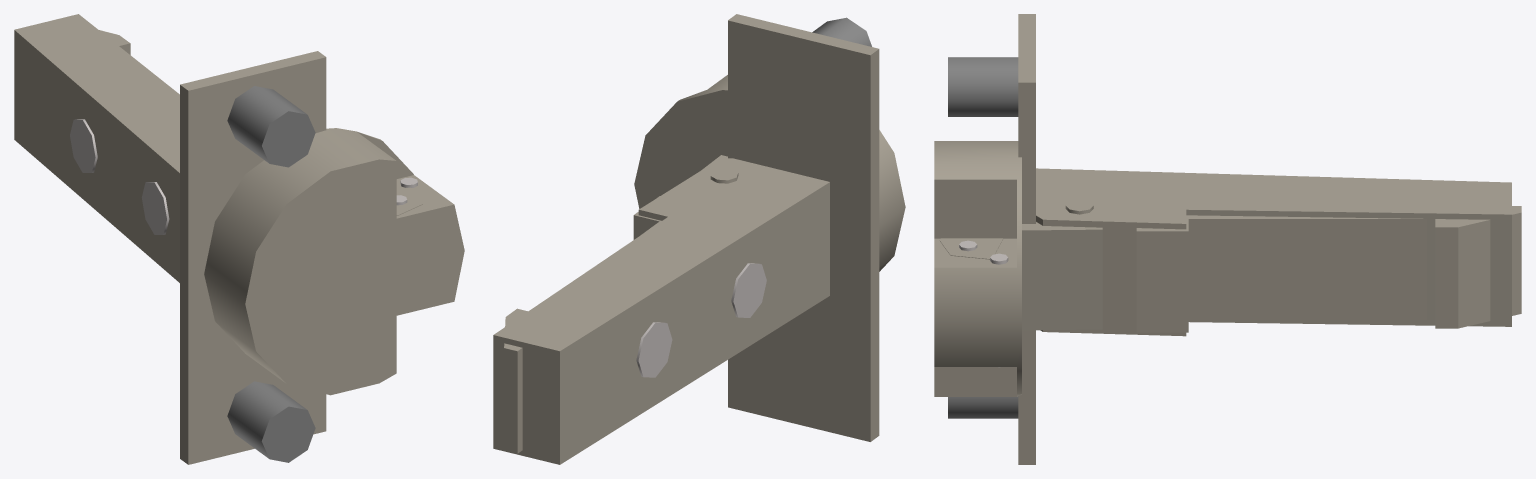
3 views of the same model, side by side, from view 1: azimuth 30°, elevation 25°; view 2: azimuth 150°, elevation 25°; view 3: azimuth 270°, elevation 25° (orthographic). The views are drawn at different scales.
Parts seen in each view (by area): view 1: bau0045622955-1, bau0045622803-1; view 2: bau0045622803-1, bau0045622955-1, bau0019426112-1; view 3: bau0019426112-1, bau0045622955-1, bau0045622803-1, bau0016549209-1, bau0016549175-2.
Boxes of the visible parts, <box> form: bau0045622955-1: <box>180,51,464,464</box>; bau0045622803-1: <box>14,14,179,282</box>; bau0045622803-1: <box>493,158,829,464</box>; bau0045622955-1: <box>634,14,905,441</box>; bau0019426112-1: <box>504,196,661,453</box>; bau0019426112-1: <box>1136,206,1521,332</box>; bau0045622955-1: <box>934,14,1035,464</box>; bau0045622803-1: <box>1036,168,1511,336</box>; bau0016549209-1: <box>1022,222,1102,330</box>; bau0016549175-2: <box>939,238,1003,259</box>.
Bounding box in the file's own units: 37.5 × 57 × 79.35.
